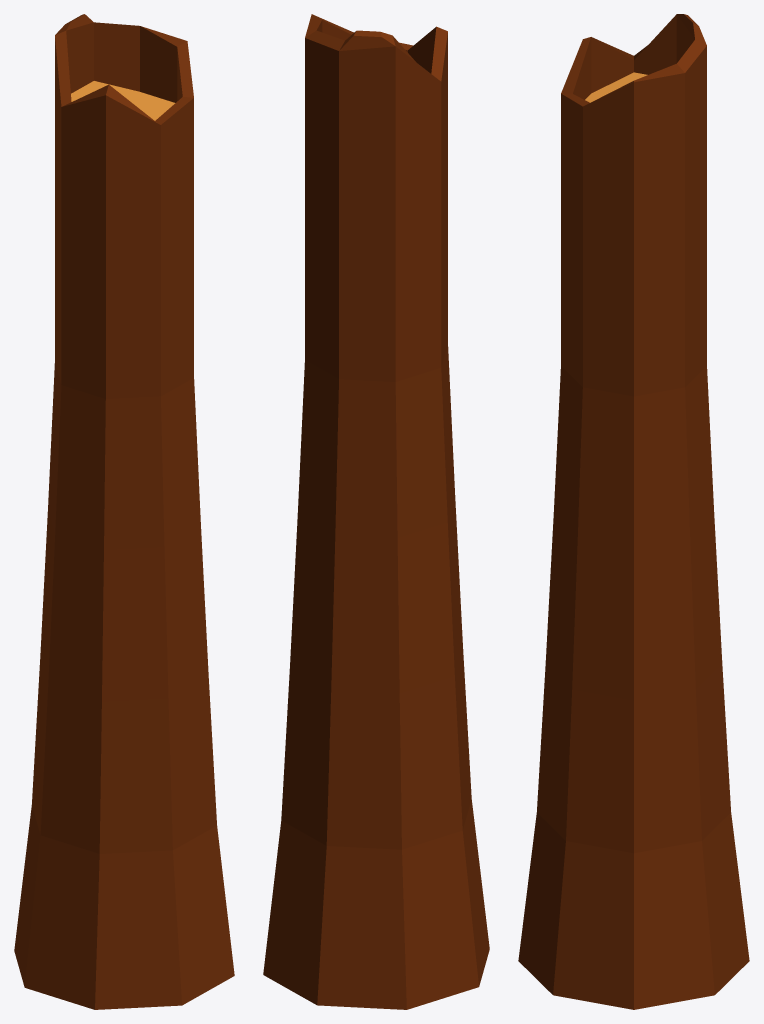
Rendered from TreeTrunkV1.fbx.
The picture shows the model from 3 angles, left to right: view 1: azimuth 30°, elevation 25°; view 2: azimuth 150°, elevation 25°; view 3: azimuth 270°, elevation 25°; orthographic projection. The views are drawn at different scales.
Visible parts, largest first — view 1: Only Trunk Tree V1; view 2: Only Trunk Tree V1; view 3: Only Trunk Tree V1.
Boxes of the visible parts, box(x1,y1,x2,y2) form: Only Trunk Tree V1: box(14, 14, 234, 1009); Only Trunk Tree V1: box(263, 14, 489, 1009); Only Trunk Tree V1: box(518, 14, 749, 1009).
Size of the model in its own units: 3.17 by 3.17 by 14.1.
